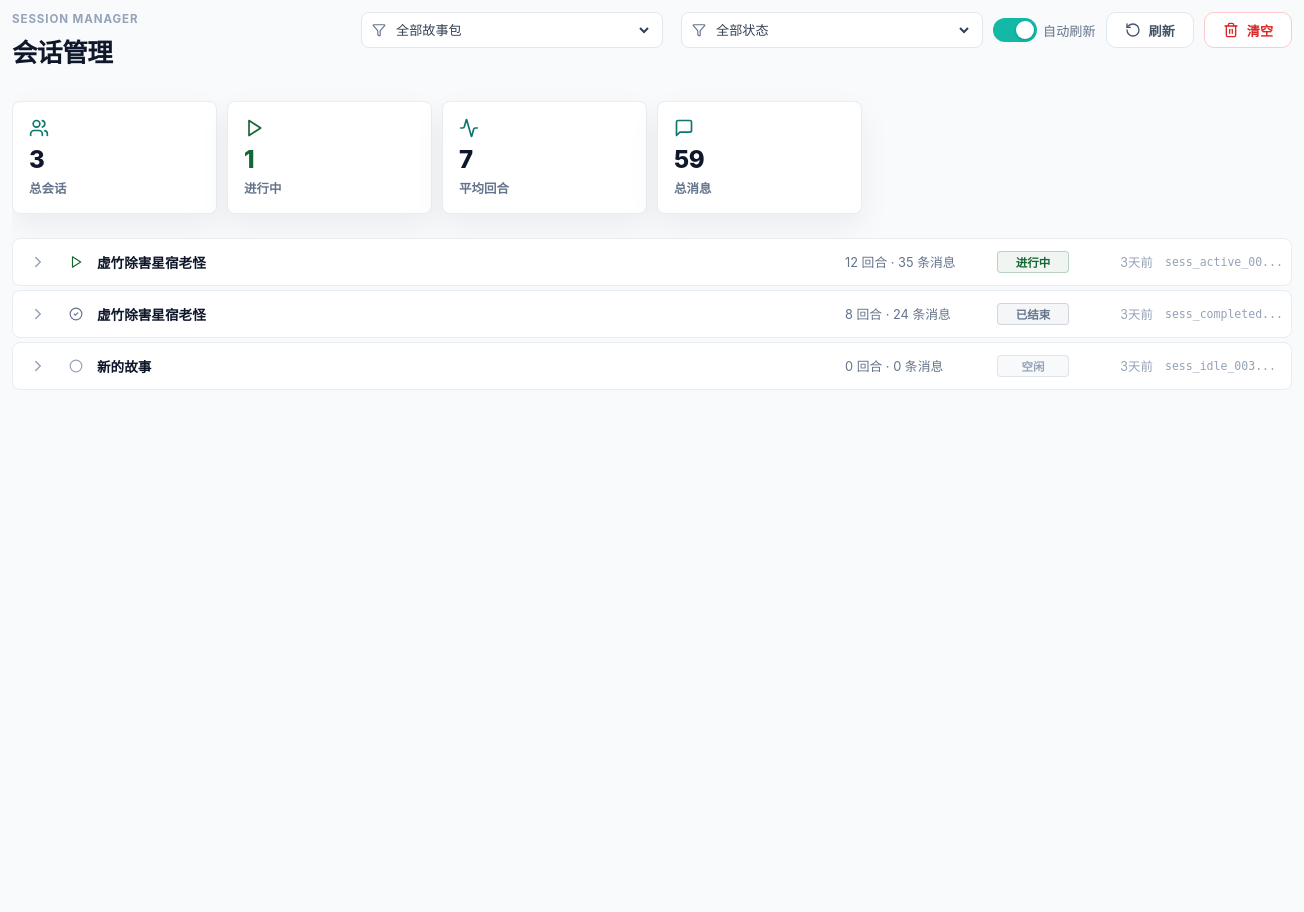
Test: SessionList › switches to messages tab in expanded panel
Click the 1st button with class "session-row-main" at (151,263), box [13,239,1291,285]
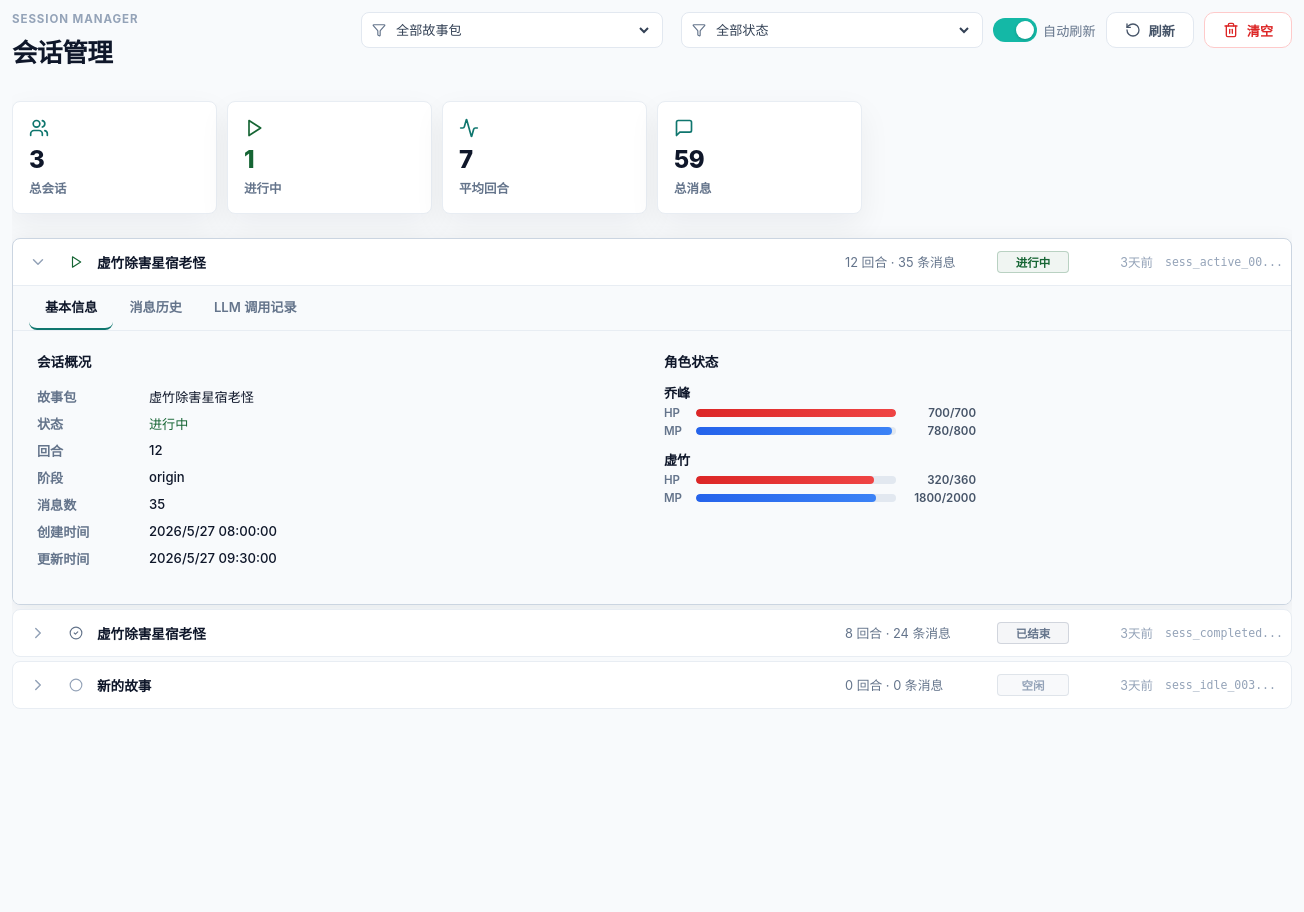
Now the button "基本信息" is shown, box [29,286,114,330]
Click the button "消息历史" at (156,308), box [114,286,198,330]
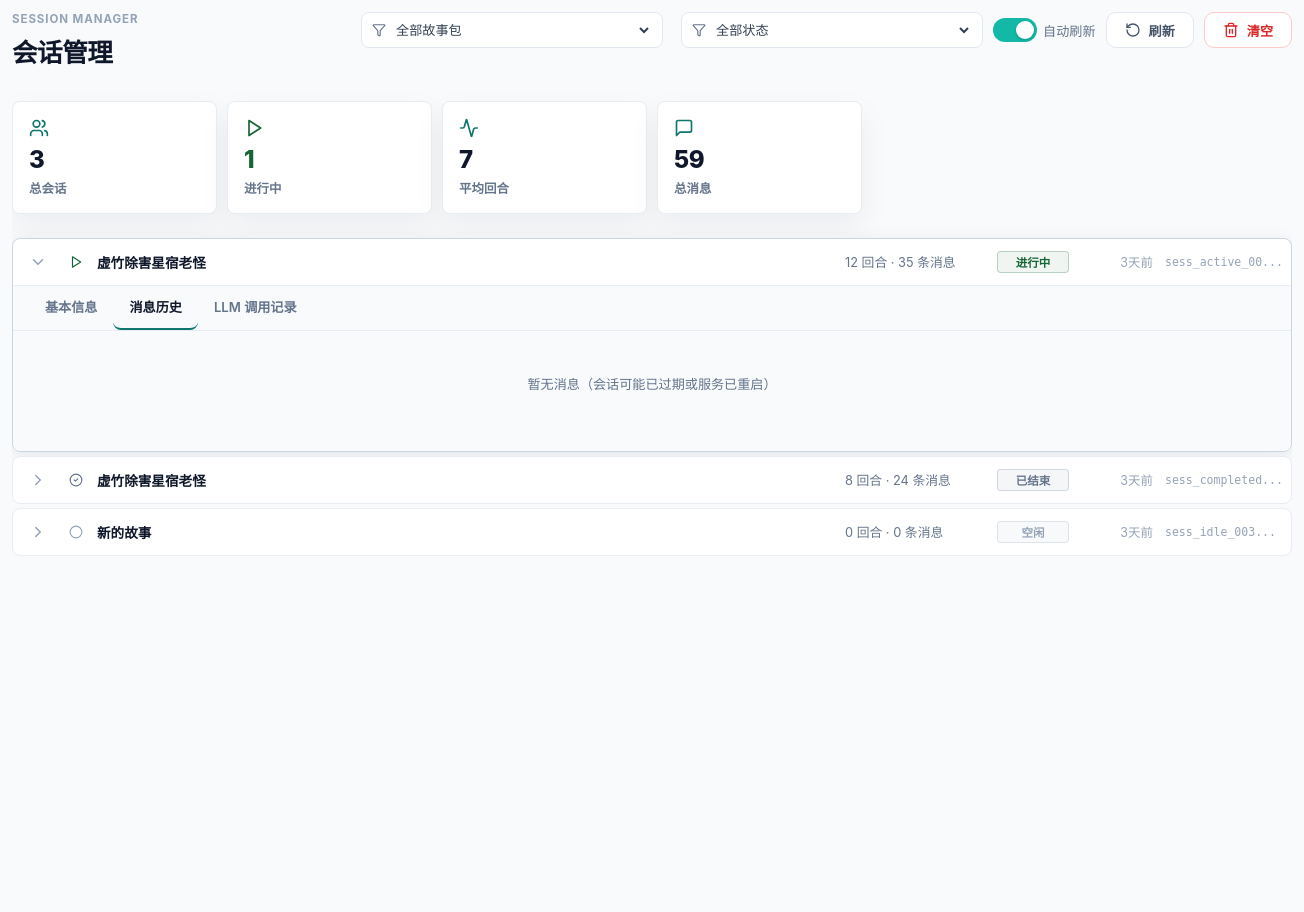
Now the text "暂无消息（会话可能已过期或服务已重启）" is shown, box [528,376,777,392]
